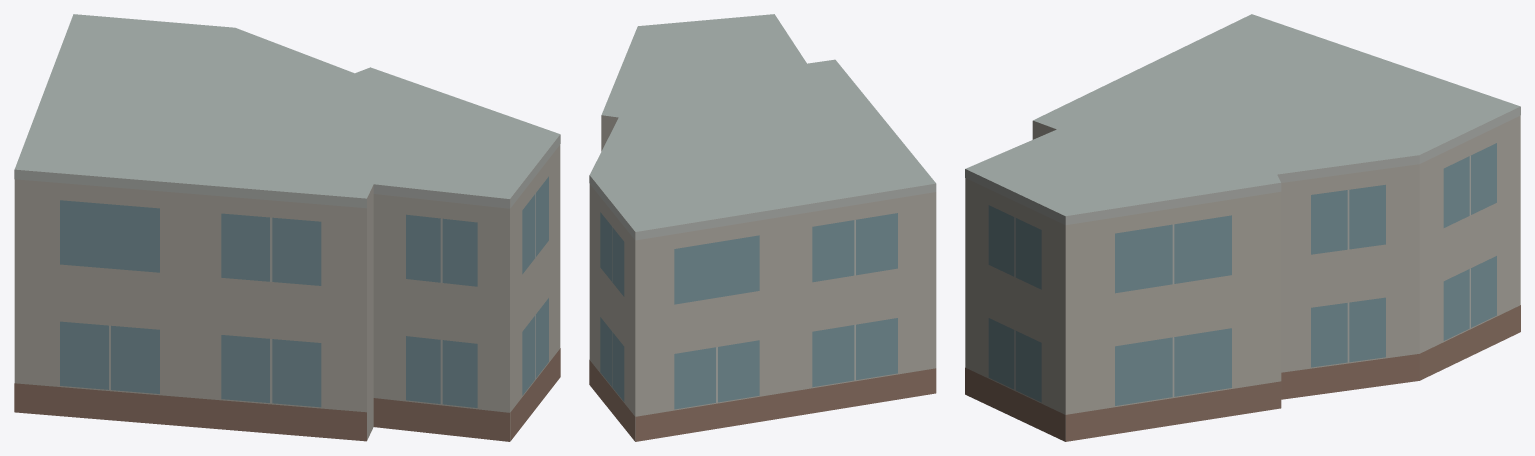
The model's file is survey-upis-32961384.glb.
3 views of the same model, side by side, from view 1: azimuth 30°, elevation 25°; view 2: azimuth 150°, elevation 25°; view 3: azimuth 270°, elevation 25° (orthographic). The views are drawn at different scales.
Visible parts, largest first — view 1: survey-upis-32961384.tmp; view 2: survey-upis-32961384.tmp; view 3: survey-upis-32961384.tmp.
Part boxes in pixels (left/top/right/bottom): survey-upis-32961384.tmp: left=14, top=14, right=560, bottom=441; survey-upis-32961384.tmp: left=589, top=14, right=936, bottom=441; survey-upis-32961384.tmp: left=965, top=14, right=1520, bottom=441.
Size of the model in its own units: 11.73 by 6.1 by 13.62.
